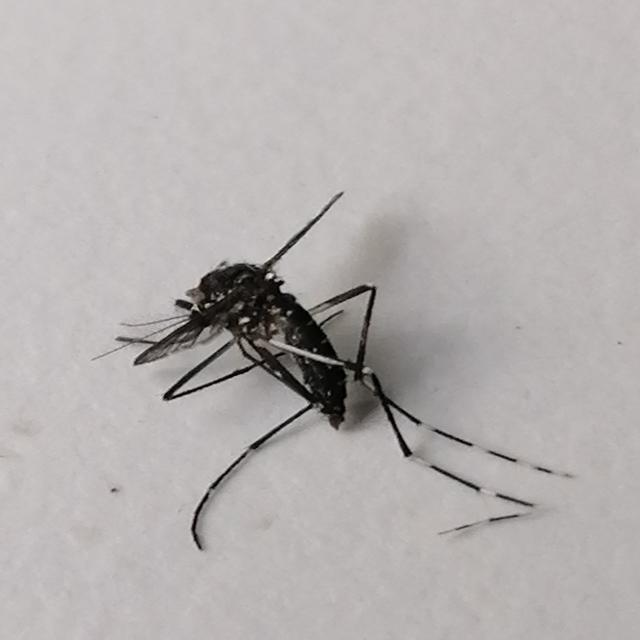albopictus: (96, 175, 578, 566)
